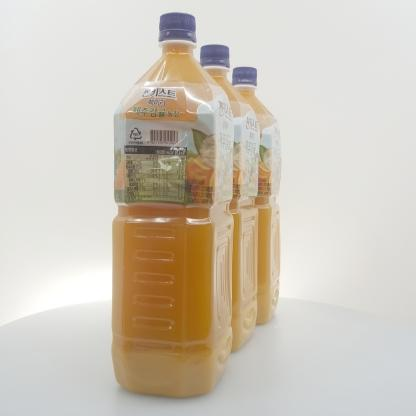-----------2L: (111, 12, 234, 398)
